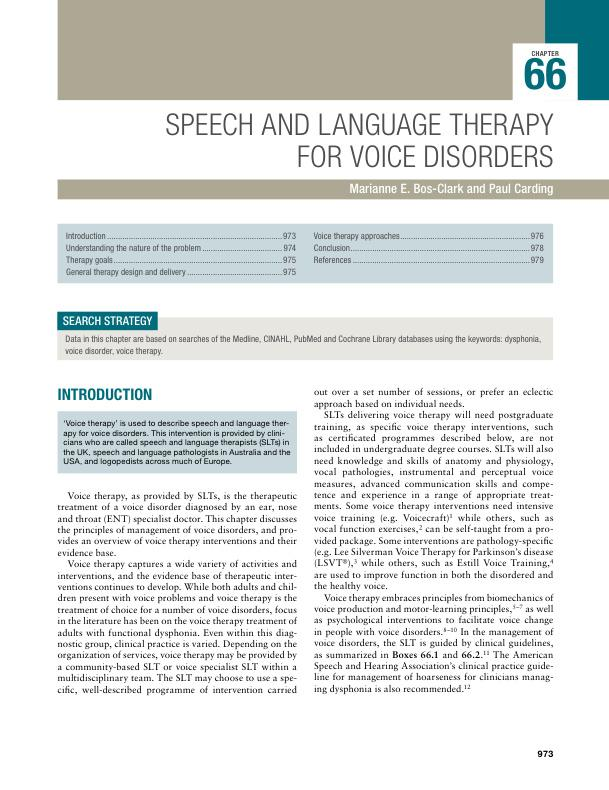chapter-heading: (164, 111, 556, 169)
section-heading: (57, 387, 154, 402)
text: (313, 387, 554, 696), (56, 491, 299, 696), (61, 418, 292, 468)
